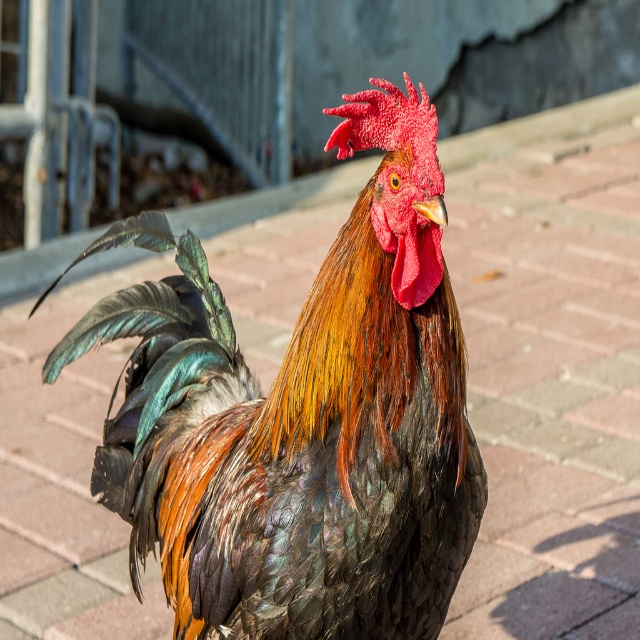Chicken: (28, 72, 489, 640)
